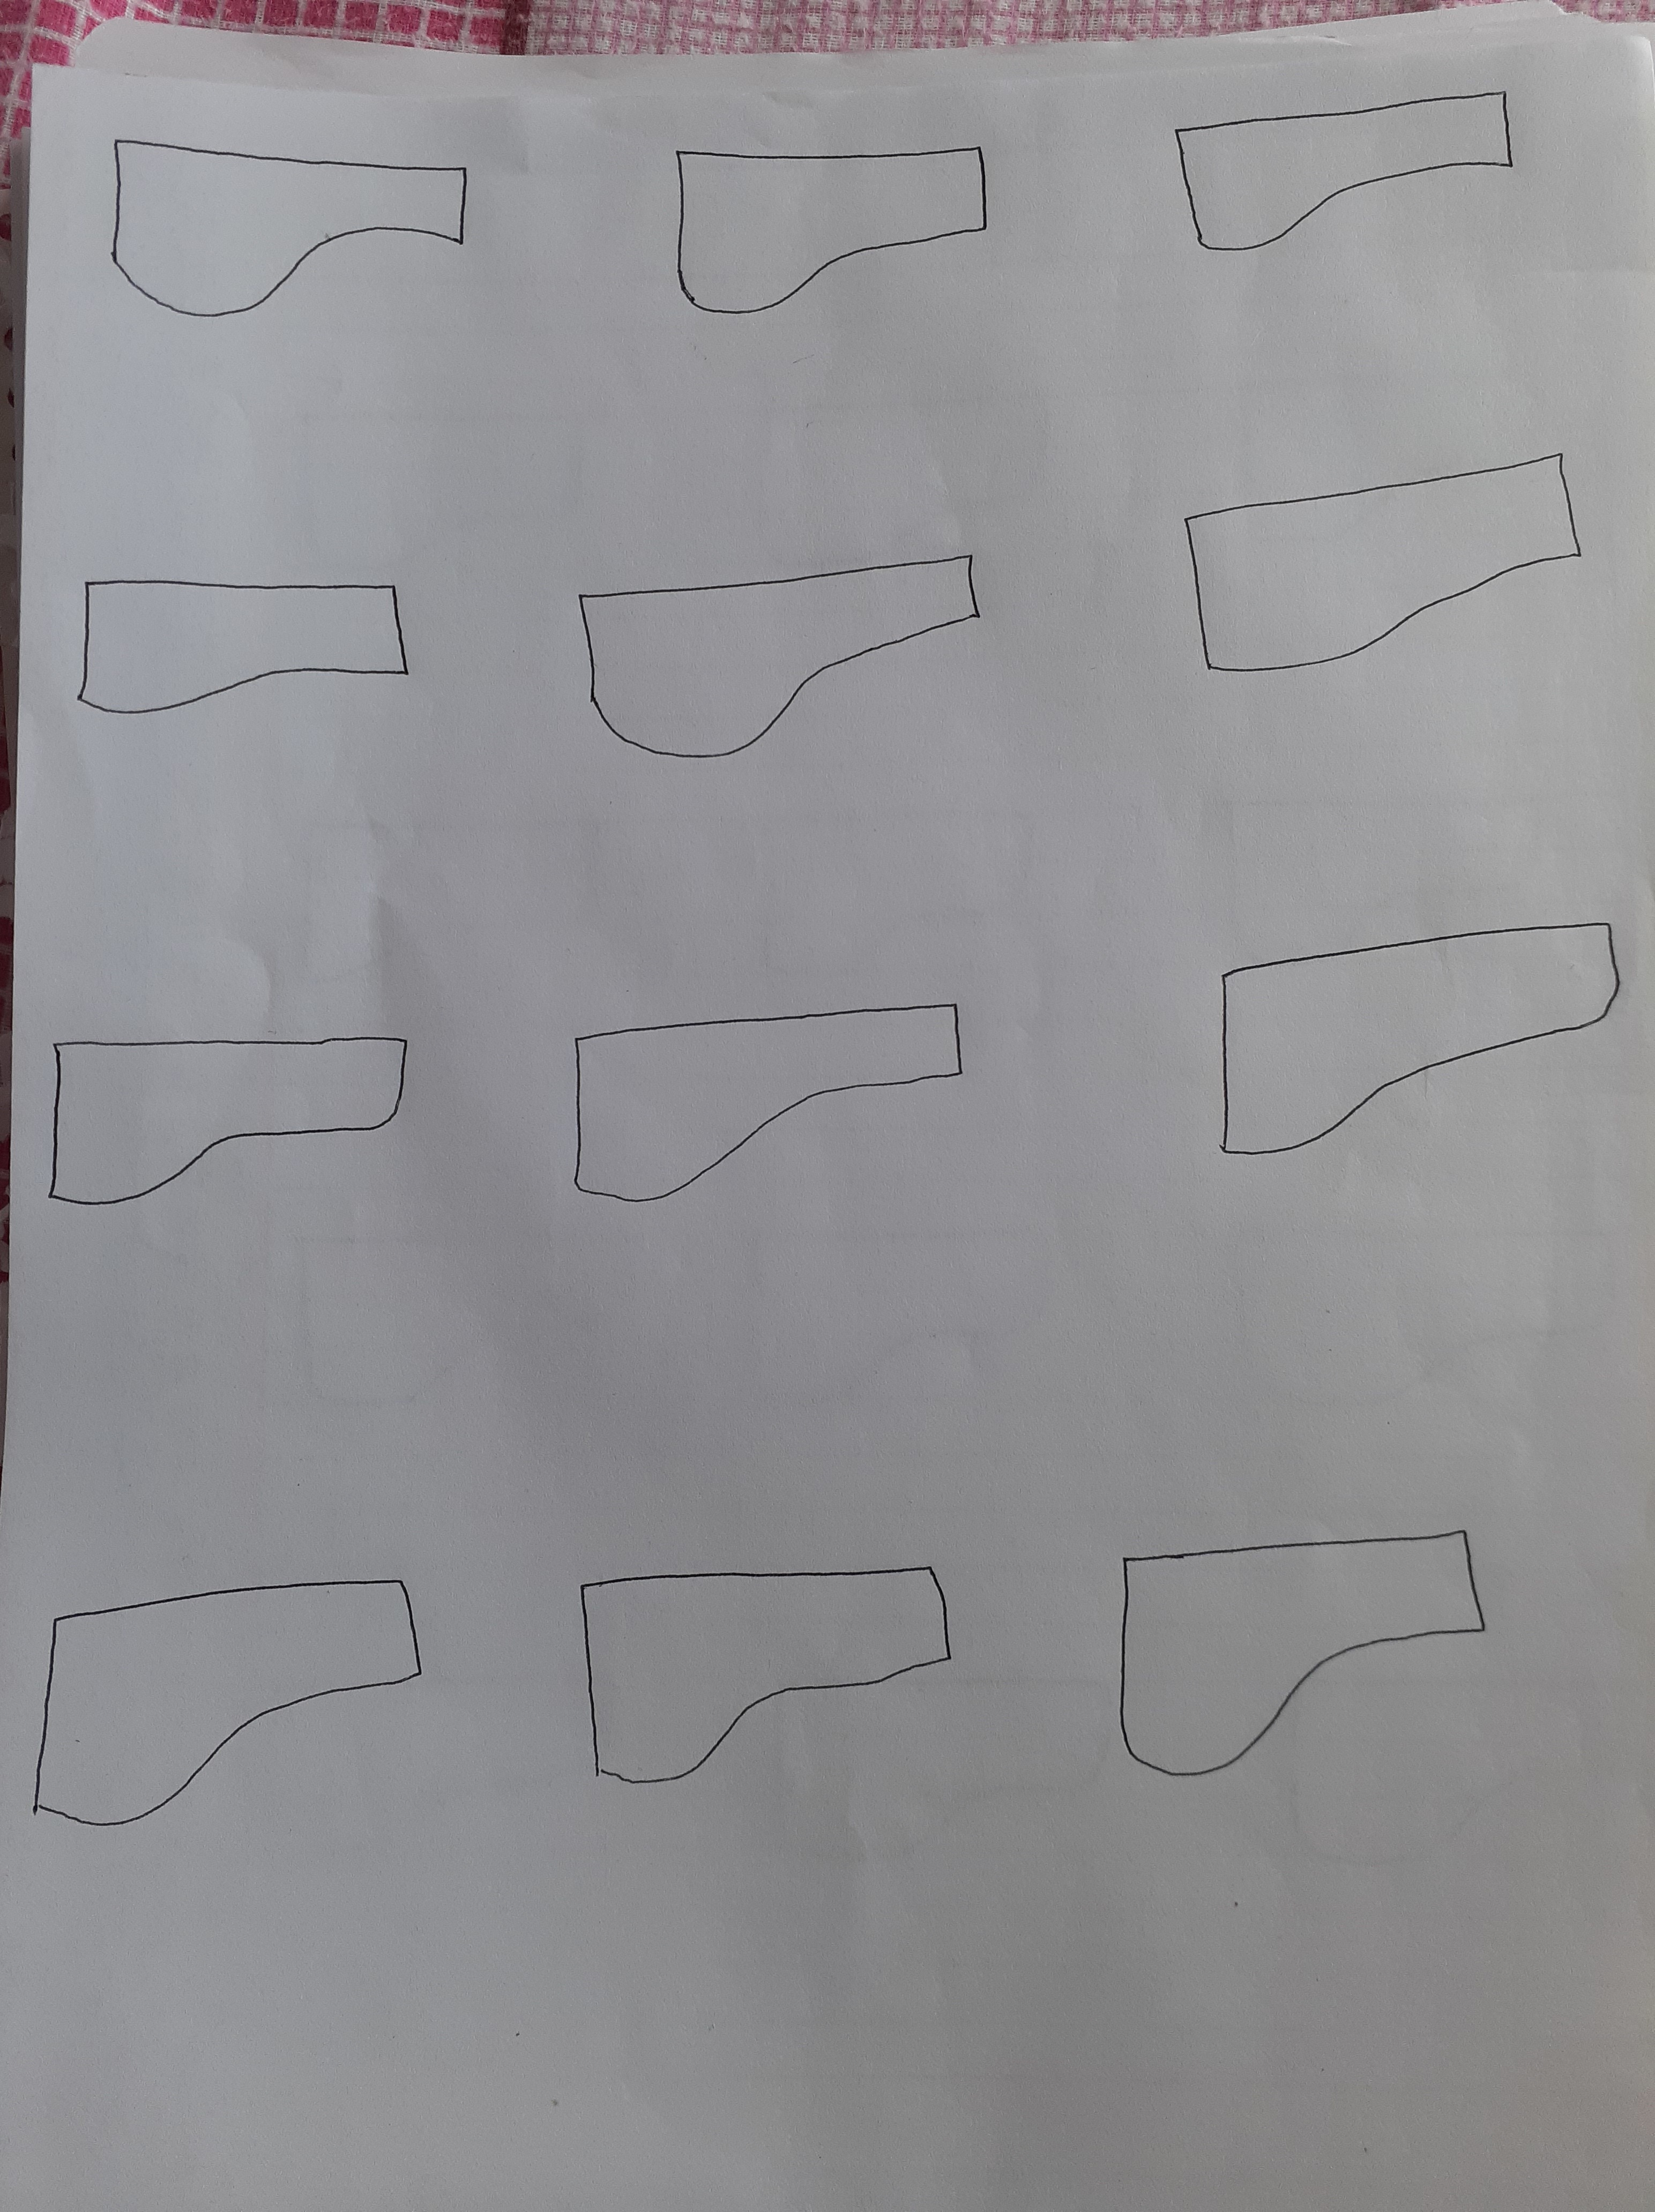print: (1093, 1508, 1523, 1823), (1151, 912, 1632, 1180), (9, 1567, 482, 1837), (1140, 436, 1603, 704), (89, 97, 518, 382), (537, 975, 989, 1227), (562, 1545, 977, 1812), (558, 540, 1020, 777), (1147, 64, 1530, 318), (24, 1003, 436, 1234), (659, 125, 1020, 349), (75, 563, 433, 726)
